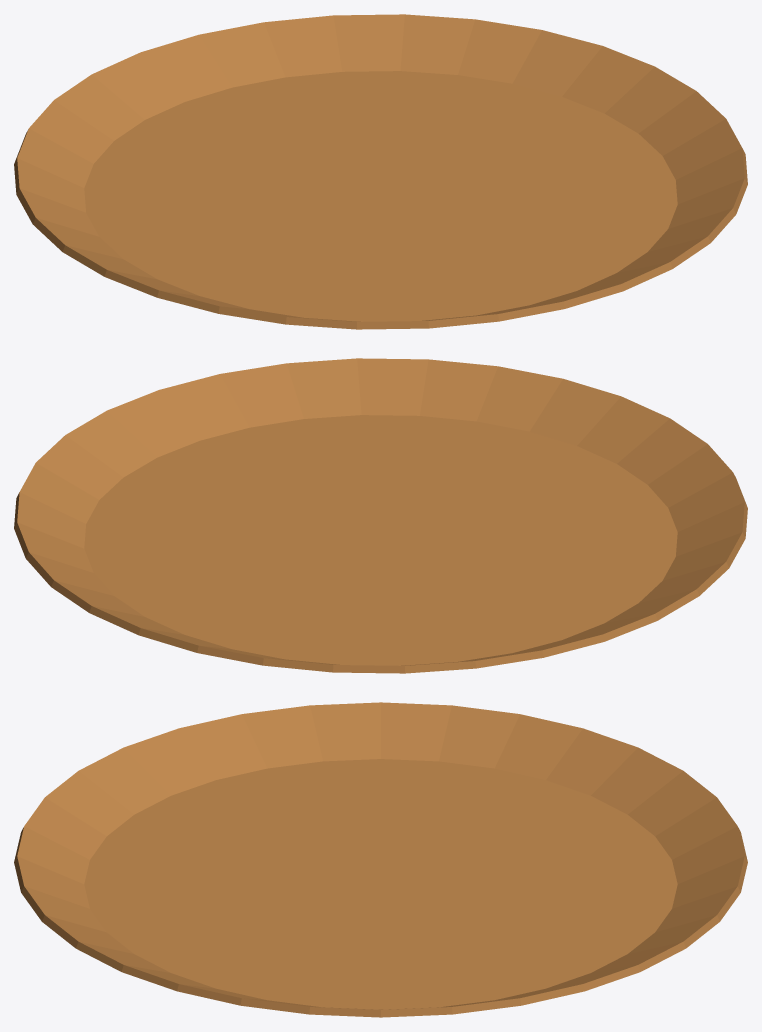
The model's file is CoffeePlate.fbx.
3 views of the same model, one above another, from view 1: azimuth 30°, elevation 25°; view 2: azimuth 150°, elevation 25°; view 3: azimuth 270°, elevation 25° (orthographic).
Visible parts, largest first — view 1: CoffePlate; view 2: CoffePlate; view 3: CoffePlate.
Boxes of the visible parts, <box> form: CoffePlate: <box>14,14,747,329</box>; CoffePlate: <box>14,358,747,673</box>; CoffePlate: <box>14,702,747,1017</box>.
Size of the model in its own units: 0.2981 by 0.0157 by 0.2981.
